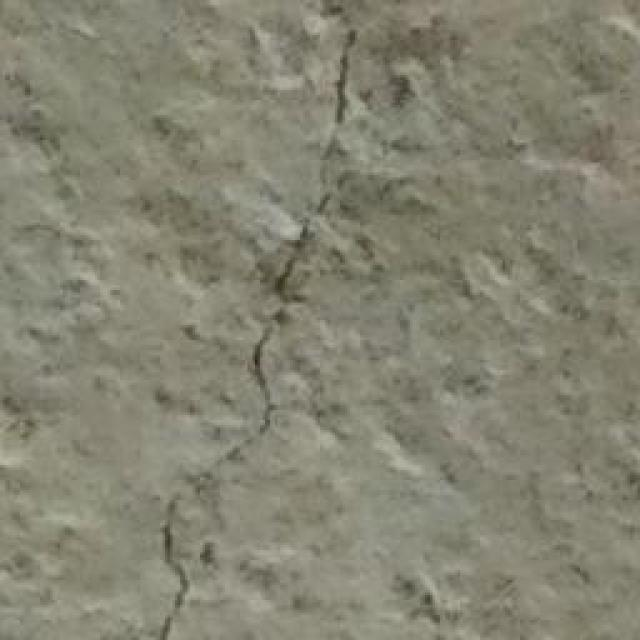Diagonal: (135, 0, 369, 640)
